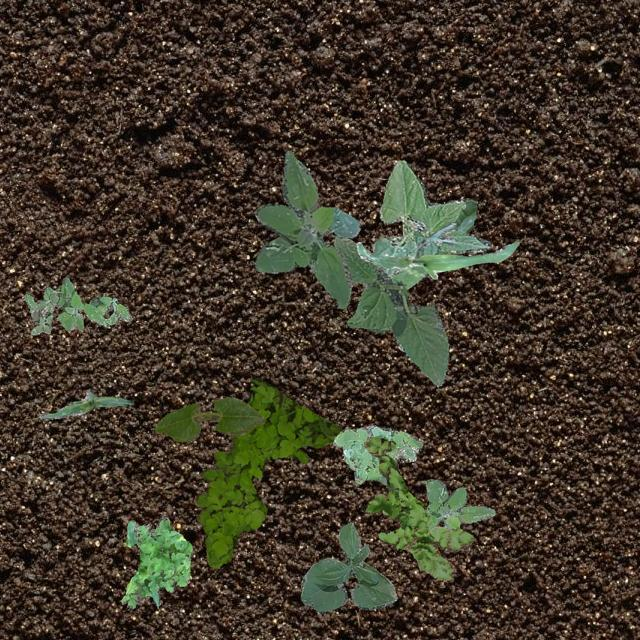crop: (332, 236, 448, 386), (372, 158, 490, 276), (356, 222, 518, 278), (299, 522, 396, 612), (386, 198, 476, 288), (154, 394, 262, 440), (38, 388, 132, 418)
weed: (193, 376, 339, 566), (253, 150, 359, 308), (362, 436, 472, 580), (120, 516, 192, 608), (24, 276, 130, 334), (332, 424, 422, 484), (424, 478, 494, 528)
